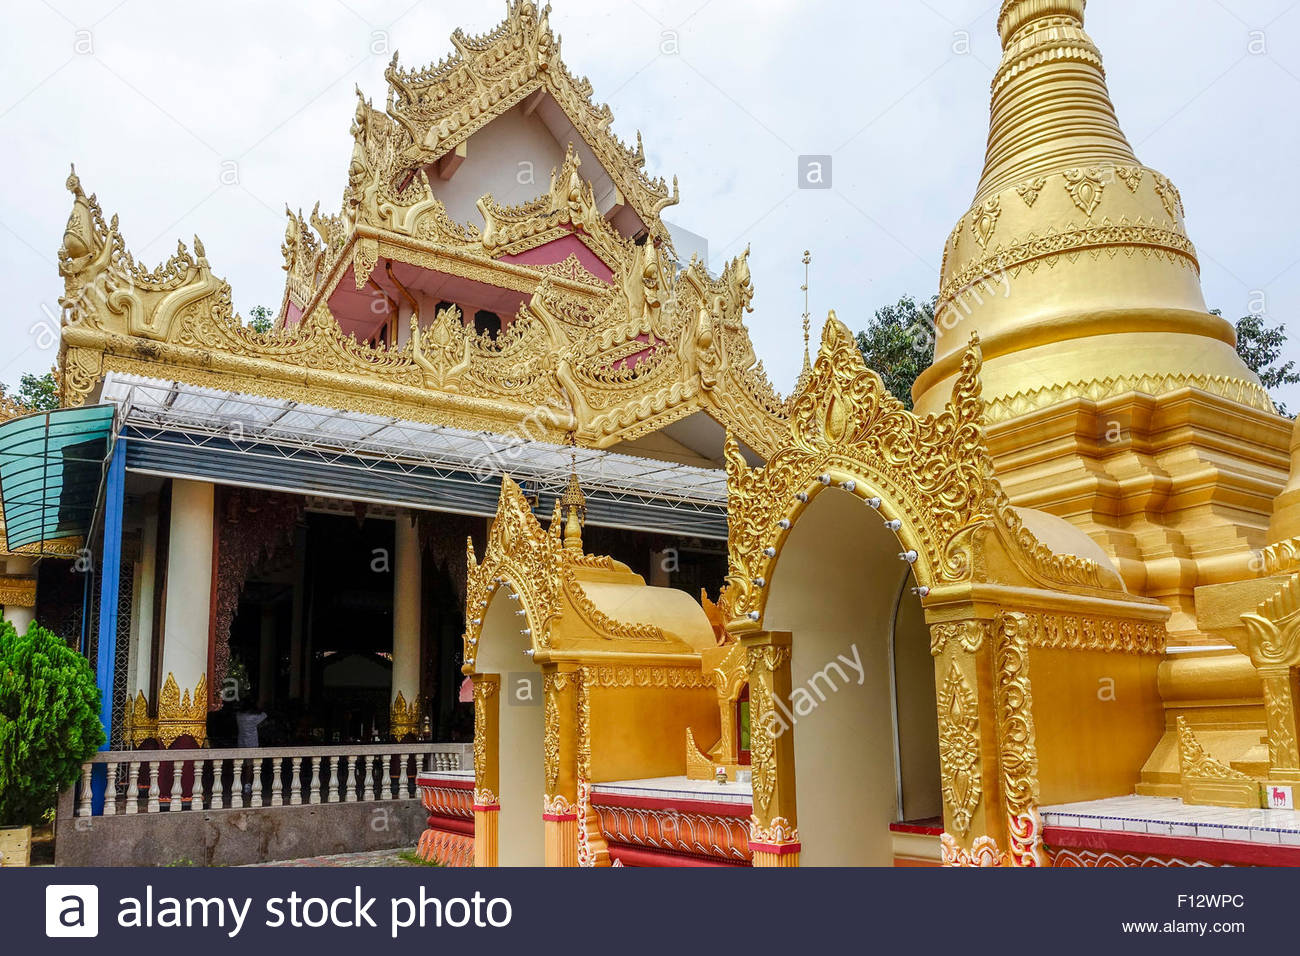Buddhist Temple: (48, 16, 759, 716)
